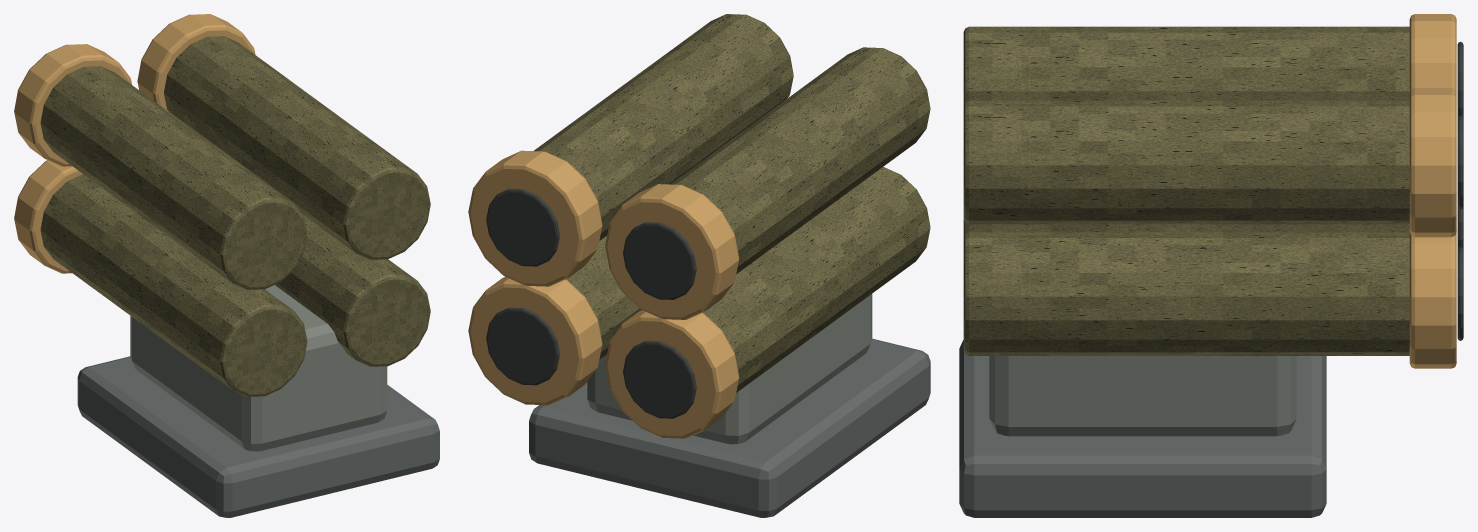
The model's file is STK-M02.fbx.
The picture shows the model from 3 angles, left to right: view 1: azimuth 30°, elevation 25°; view 2: azimuth 150°, elevation 25°; view 3: azimuth 270°, elevation 25°; orthographic projection. The views are drawn at different scales.
Visible parts, largest first — view 1: STK-M02_Armor, STK-M02_Steel, STK-M02_Edge, STK-M02_Brass; view 2: STK-M02_Armor, STK-M02_Brass, STK-M02_Steel, STK-M02_Rubber, STK-M02_Edge; view 3: STK-M02_Armor, STK-M02_Steel, STK-M02_Edge, STK-M02_Brass, STK-M02_Rubber.
Boxes of the visible parts, x1,y1,x2,y2 form: STK-M02_Armor: (40,36,430,396); STK-M02_Steel: (77,356,439,517); STK-M02_Edge: (130,285,387,451); STK-M02_Brass: (14,14,255,273); STK-M02_Armor: (534,14,930,392); STK-M02_Brass: (468,150,739,438); STK-M02_Steel: (529,338,930,517); STK-M02_Rubber: (486,188,696,418); STK-M02_Edge: (587,294,872,444); STK-M02_Armor: (963,26,1409,355); STK-M02_Steel: (959,340,1326,517); STK-M02_Edge: (989,356,1296,436); STK-M02_Brass: (1409,14,1456,368); STK-M02_Rubber: (1457,42,1463,340).
Size of the model in its own units: 76.5 by 102 by 118.
